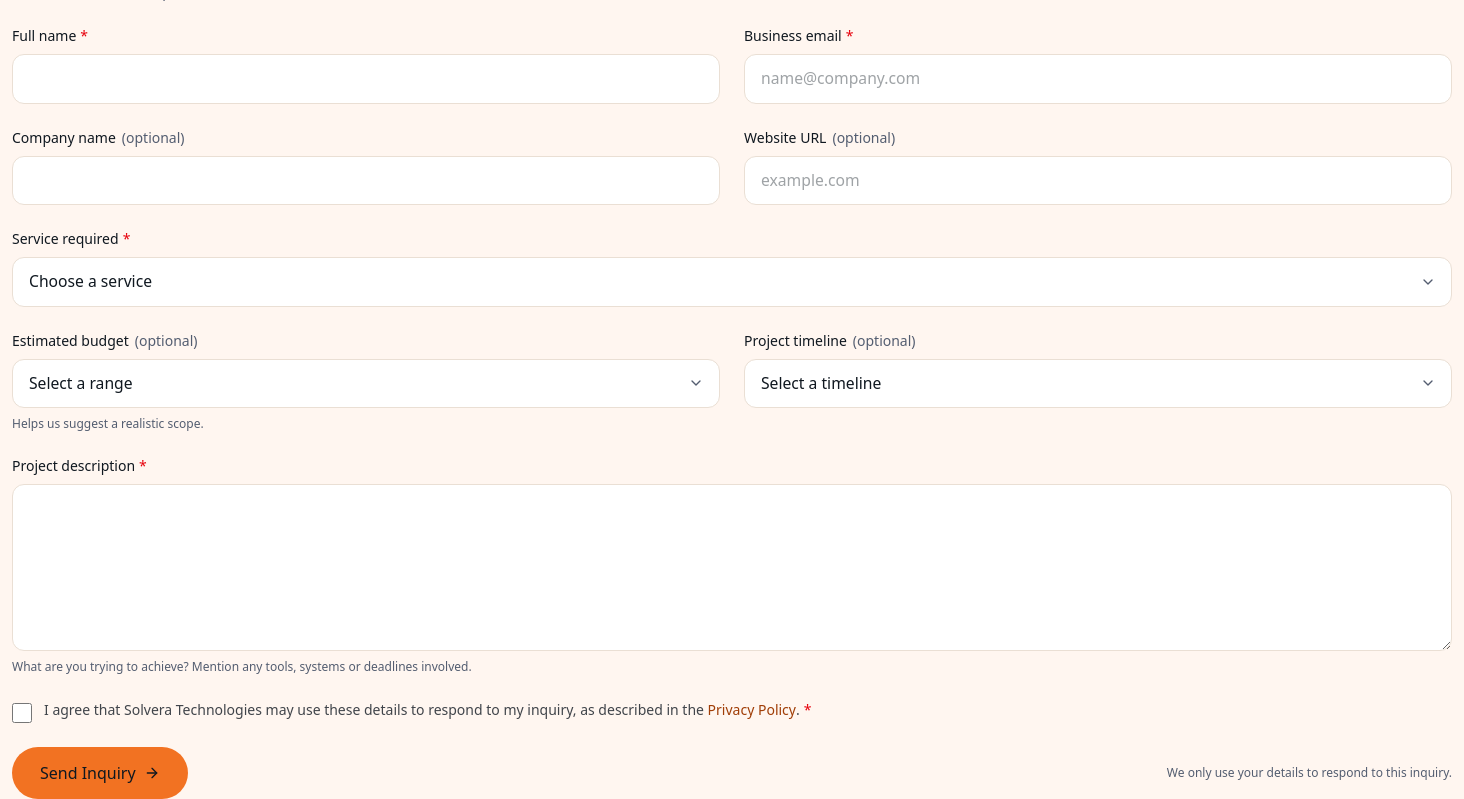
Test: ContactForm › shows inline errors and does not submit invalid data
This screenshot has width=1464, height=799.
Click the button "Send Inquiry" at (100, 773), box x1=12 y1=747 x2=188 y2=798
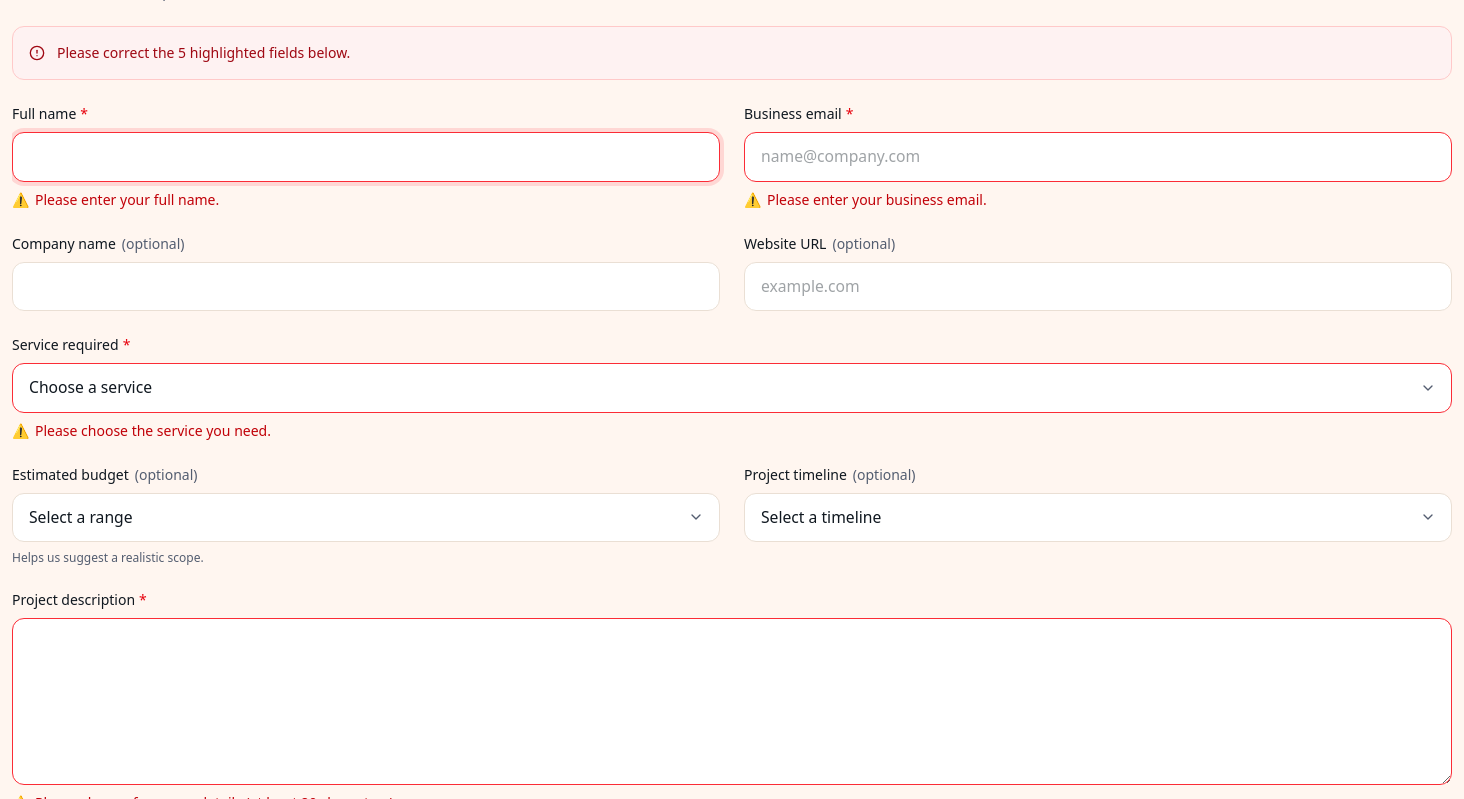
Now the message shows "highlighted fields", box x1=153 y1=43 x2=304 y2=62
